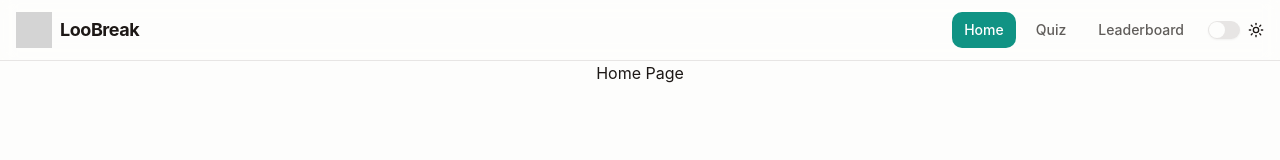
Test: NavBar › leaderboard button redirects to leaderboardpage
Click the link "Leaderboard": (1141, 30) [1098, 21, 1184, 38]
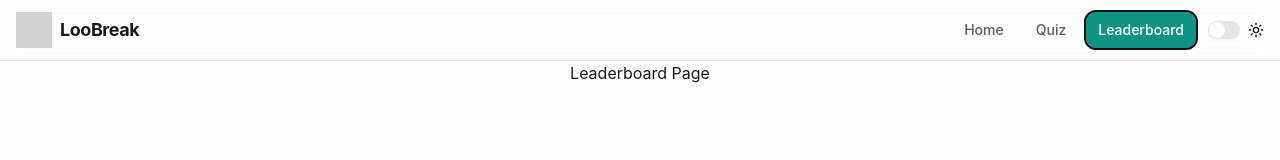
Expected: the text "Leaderboard Page" is shown, [570, 63, 710, 83]
